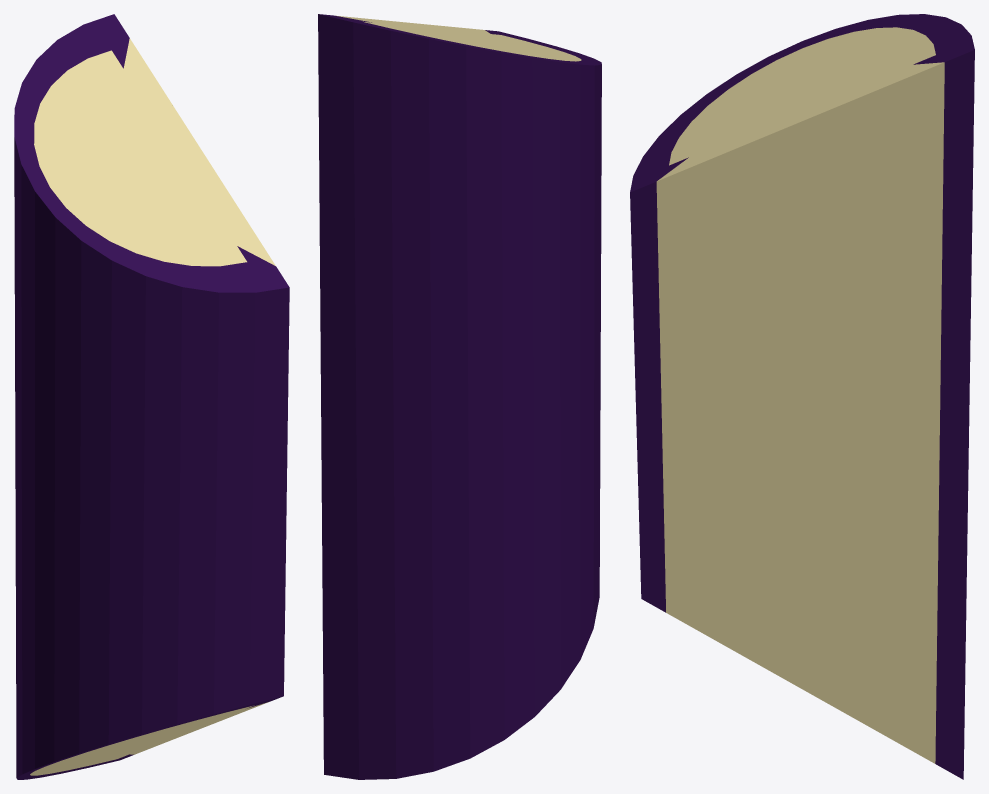
The model's file is purple veg.fbx.
3 renders of one model, left to right at view 1: azimuth 30°, elevation 25°; view 2: azimuth 150°, elevation 25°; view 3: azimuth 270°, elevation 25°, orthographic. The views are drawn at different scales.
Parts seen in each view (by area): view 1: Cylinder; view 2: Cylinder; view 3: Cylinder.
Part boxes in pixels (<box>): Cylinder: <box>14,14,289,779</box>; Cylinder: <box>318,14,601,779</box>; Cylinder: <box>630,14,974,779</box>.
Bounding box in the file's own units: 100 × 425 × 182.
